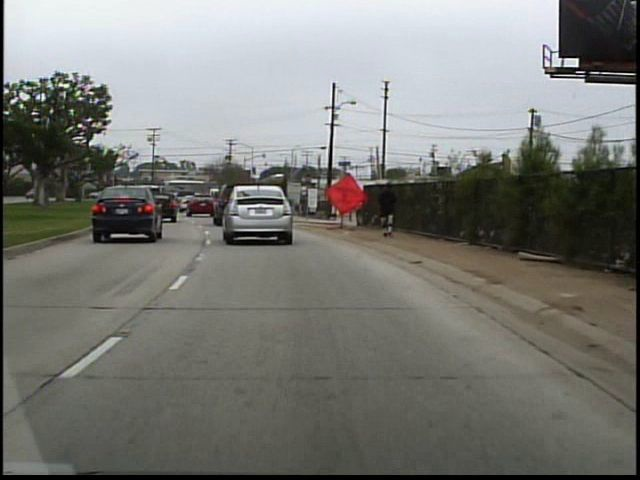person: (375, 178, 402, 238)
